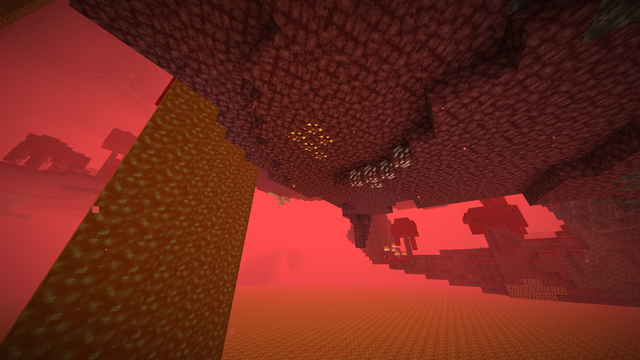nethergold: (286, 122, 334, 162)
quartz: (349, 145, 411, 192)
